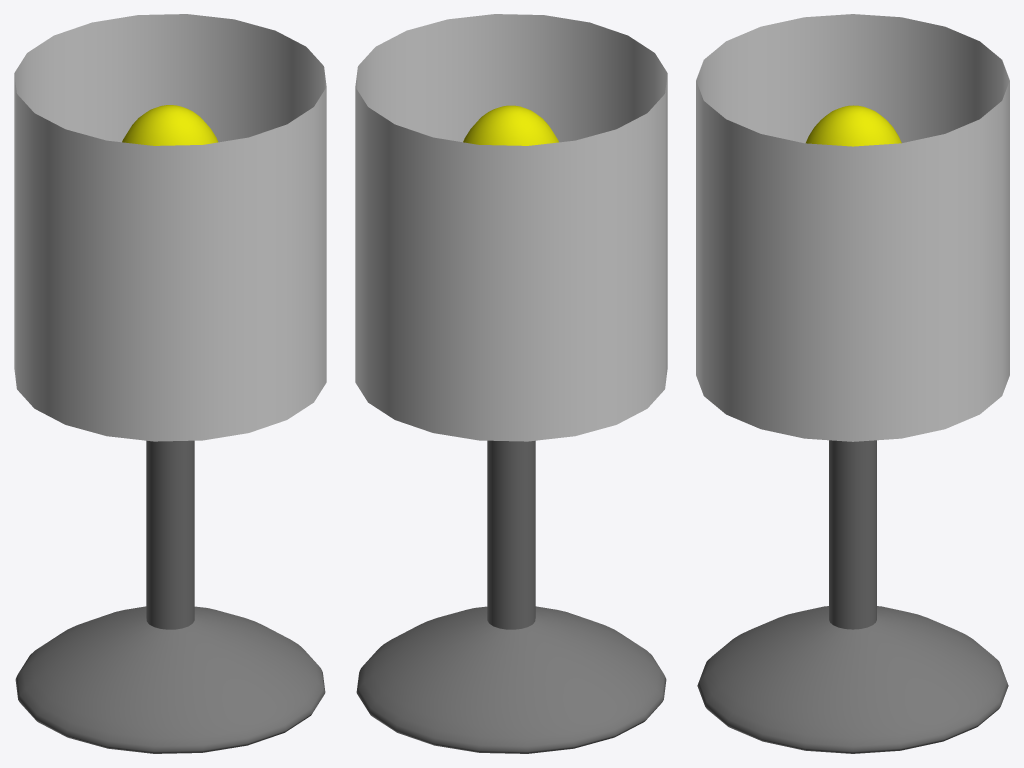
The model's file is Lamp.fbx.
The picture shows the model from 3 angles, left to right: view 1: azimuth 30°, elevation 25°; view 2: azimuth 150°, elevation 25°; view 3: azimuth 270°, elevation 25°; orthographic projection.
Visible parts, largest first — view 1: Lamp_hat, Lamp_bottom, Lamp_pole, Lamp_lightblub; view 2: Lamp_hat, Lamp_bottom, Lamp_pole, Lamp_lightblub; view 3: Lamp_hat, Lamp_bottom, Lamp_pole, Lamp_lightblub.
Boxes of the visible parts, x1,y1,x2,y2 form: Lamp_hat: [14, 14, 326, 441]; Lamp_bottom: [15, 606, 325, 753]; Lamp_pole: [146, 440, 194, 629]; Lamp_lightblub: [122, 105, 218, 145]; Lamp_hat: [355, 14, 667, 441]; Lamp_bottom: [356, 606, 666, 753]; Lamp_pole: [487, 440, 535, 629]; Lamp_lightblub: [463, 105, 558, 145]; Lamp_hat: [696, 14, 1009, 441]; Lamp_bottom: [697, 606, 1008, 753]; Lamp_pole: [829, 440, 876, 629]; Lamp_lightblub: [806, 105, 901, 146].
Size of the model in its own units: 1.23 by 2.64 by 1.23.
